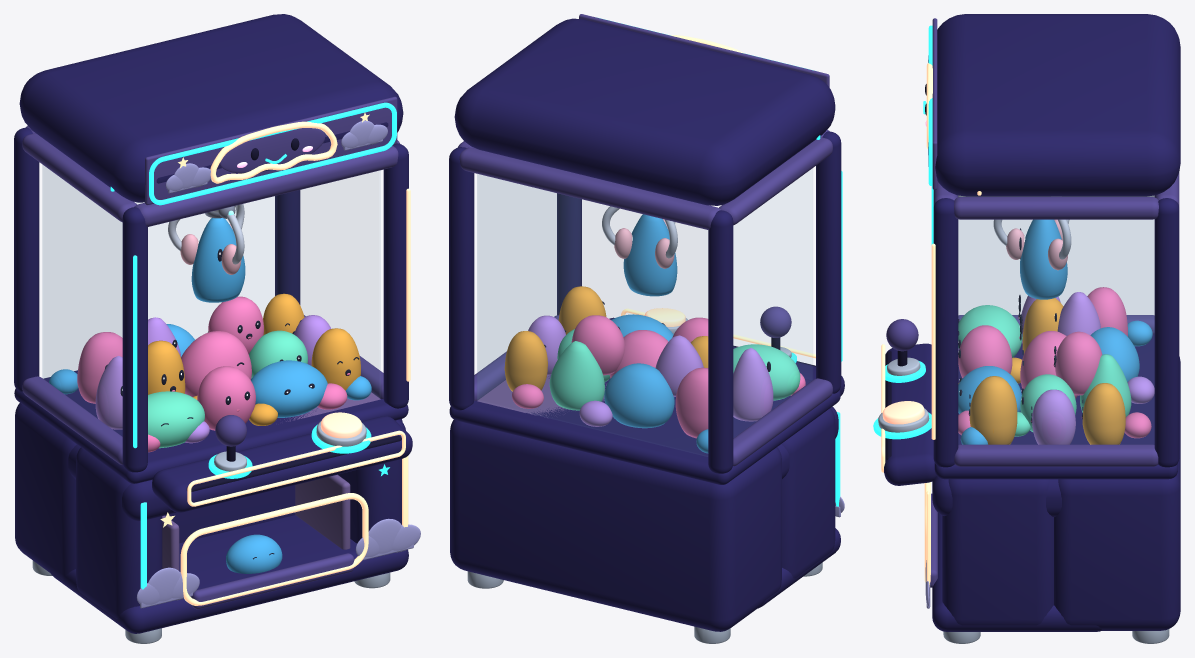
Rendered from neon-claw-v2-CCpG9NBW.glb.
The picture shows the model from 3 angles, left to right: view 1: azimuth 30°, elevation 25°; view 2: azimuth 150°, elevation 25°; view 3: azimuth 270°, elevation 25°; orthographic projection. The views are drawn at different scales.
Visible parts, largest first — view 1: Rounded Marquee Canopy, Lower Cabinet Rear Body, Lower Cabinet Rounded Plinth, Lower Cabinet Left Cheek, Integrated Rounded Control Shelf, Chamber Floor, Chamber Rounded Corner Post.001, Chamber Rounded Corner Post.002, Chamber Rounded Corner Post, Chamber Front Crown Rail, Marquee Face Inset, Blob_03_Blue_Body (+35 smaller); view 2: Lower Cabinet Rear Body, Rounded Marquee Canopy, Chamber Floor, Lower Cabinet Left Cheek, Chamber Rounded Corner Post.001, Chamber Rounded Corner Post.003, Chamber Rear Crown Rail, Chamber Rounded Corner Post, Blob_11_Blue_Body, CapturedBlob_Body, Chamber Side Lower Rail, Blob_12_Mint_Body (+20 smaller); view 3: Rounded Marquee Canopy, Lower Cabinet Rear Body, Lower Cabinet Right Cheek, Chamber Rounded Corner Post.003, Chamber Rounded Corner Post.002, Chamber Floor, Chamber Side Upper Rail.001, Chamber Side Lower Rail.001, Integrated Rounded Control Shelf, CapturedBlob_Body, Blob_04_Honey_Body, Lower Cabinet Rounded Plinth (+27 smaller).
Part boxes in pixels (<box>): Rounded Marquee Canopy: <box>19,14,403,202</box>; Lower Cabinet Rear Body: <box>15,403,295,579</box>; Lower Cabinet Rounded Plinth: <box>49,515,408,633</box>; Lower Cabinet Left Cheek: <box>76,447,162,618</box>; Integrated Rounded Control Shelf: <box>152,416,412,512</box>; Chamber Floor: <box>14,370,408,483</box>; Chamber Rounded Corner Post.001: <box>14,127,39,391</box>; Chamber Rounded Corner Post.002: <box>383,143,408,408</box>; Chamber Rounded Corner Post: <box>122,207,147,472</box>; Chamber Front Crown Rail: <box>134,145,398,226</box>; Marquee Face Inset: <box>145,96,397,205</box>; Blob_03_Blue_Body: <box>251,360,327,417</box>; Lower Cabinet Rear Body: <box>450,420,781,631</box>; Rounded Marquee Canopy: <box>454,18,835,205</box>; Chamber Floor: <box>449,375,840,484</box>; Lower Cabinet Left Cheek: <box>781,408,835,578</box>; Chamber Rounded Corner Post.001: <box>708,210,733,473</box>; Chamber Rounded Corner Post.003: <box>449,147,474,410</box>; Chamber Rear Crown Rail: <box>459,147,721,229</box>; Chamber Rounded Corner Post: <box>816,131,841,393</box>; Blob_11_Blue_Body: <box>604,363,674,428</box>; CapturedBlob_Body: <box>623,214,677,296</box>; Chamber Side Lower Rail: <box>733,378,832,466</box>; Blob_12_Mint_Body: <box>549,341,604,410</box>; Rounded Marquee Canopy: <box>935,14,1180,196</box>; Lower Cabinet Rear Body: <box>1054,356,1180,630</box>; Lower Cabinet Right Cheek: <box>942,479,1053,625</box>; Chamber Rounded Corner Post.003: <box>1154,198,1179,467</box>; Chamber Rounded Corner Post.002: <box>933,198,958,467</box>; Chamber Floor: <box>934,334,1177,479</box>; Chamber Side Upper Rail.001: <box>954,197,1158,219</box>; Chamber Side Lower Rail.001: <box>954,444,1158,466</box>; Integrated Rounded Control Shelf: <box>884,343,936,485</box>; CapturedBlob_Body: <box>1020,219,1067,299</box>; Blob_04_Honey_Body: <box>969,376,1017,444</box>; Lower Cabinet Rounded Plinth: <box>932,513,1101,631</box>.
Size of the model in its own units: 2.73 by 4.5 by 2.47.
